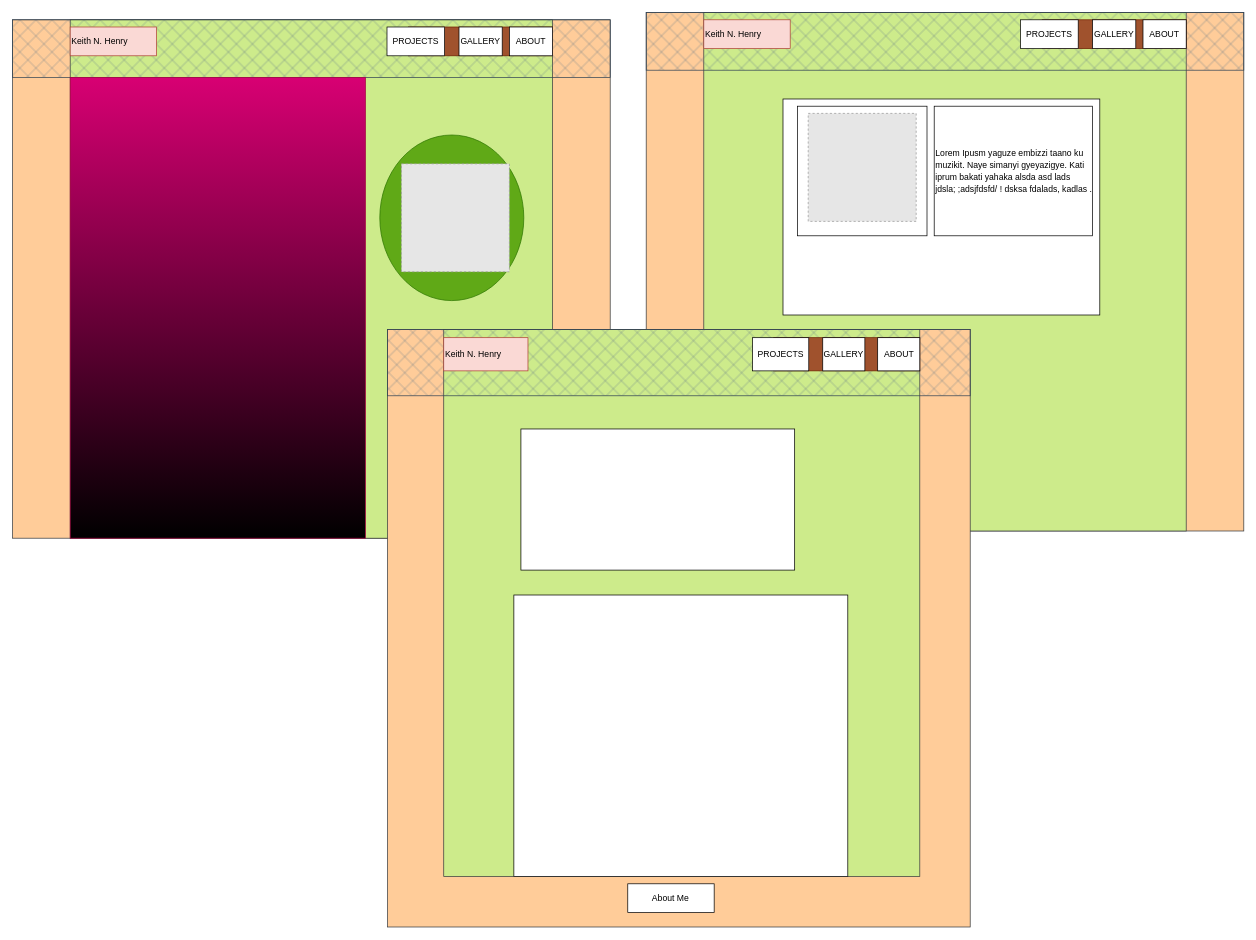
Image size: 1256x940. Some labels were removed from this diagram. Grey dashed boxes stand in for pictures. Here are the shapes that lost their labels. From the top down, the centre of each, then its label:
At (657,499): "Short text on otivation for the projects".
At (680,735): "Project tiles each tile an image with text under, leading to a".
